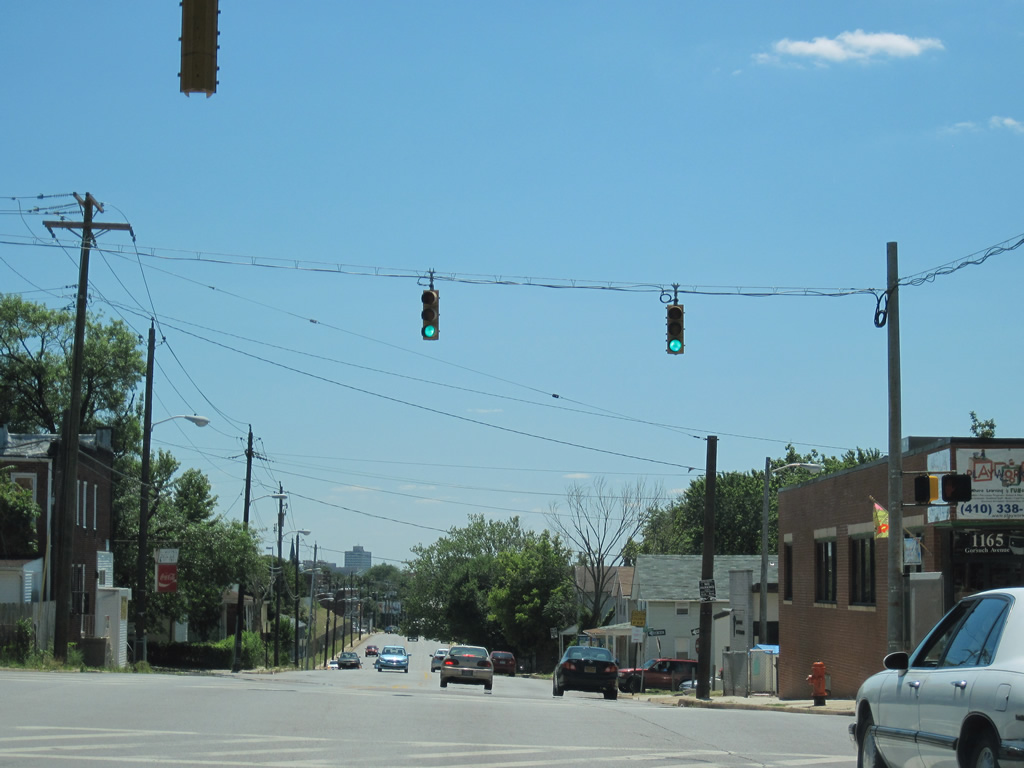traffic_light: (418, 288, 442, 342), (664, 303, 687, 356)
